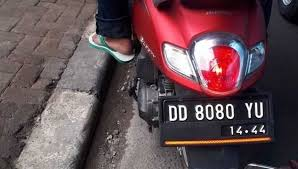plat nomor: (158, 97, 273, 142)
